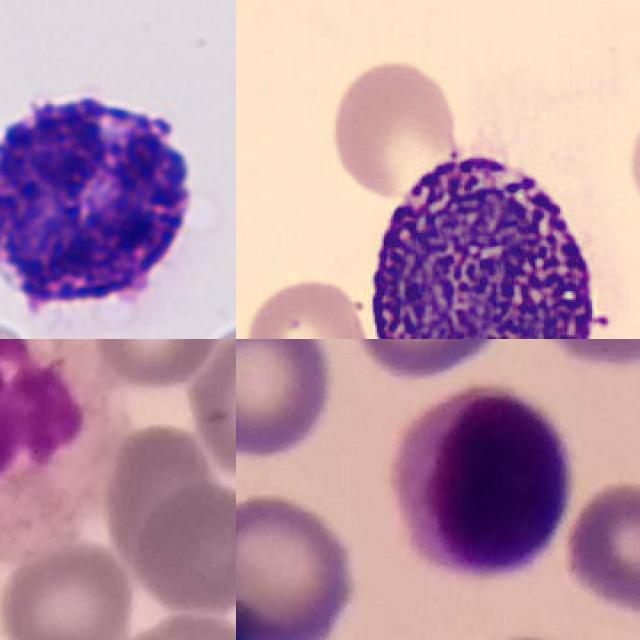Basophil: (0, 73, 215, 339), (354, 132, 626, 339)
Lymphocyte: (384, 387, 571, 577)
Neutrophil: (0, 339, 127, 560)
RBC: (326, 53, 461, 199), (242, 273, 377, 339)
